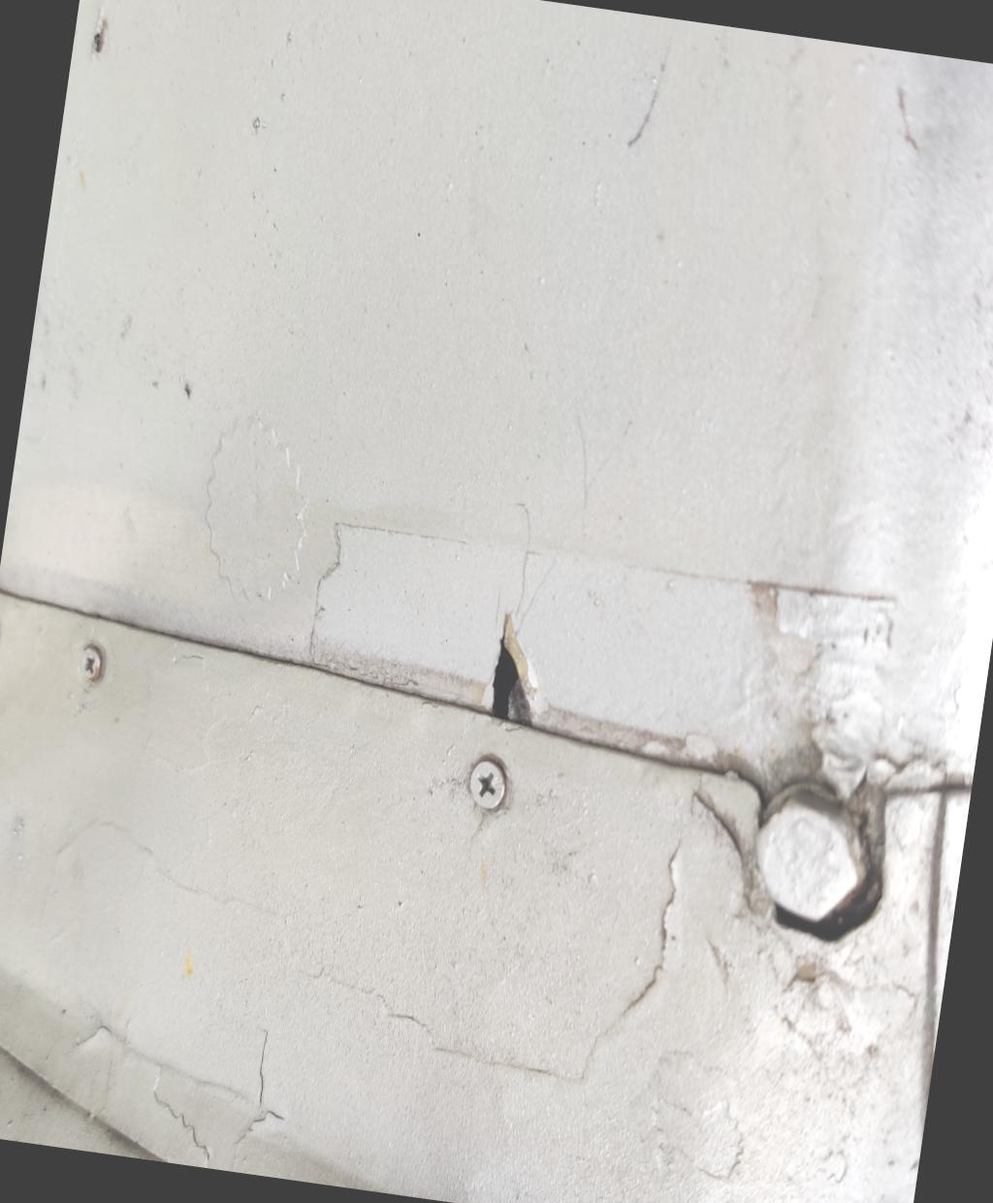crack: (432, 562, 597, 774)
